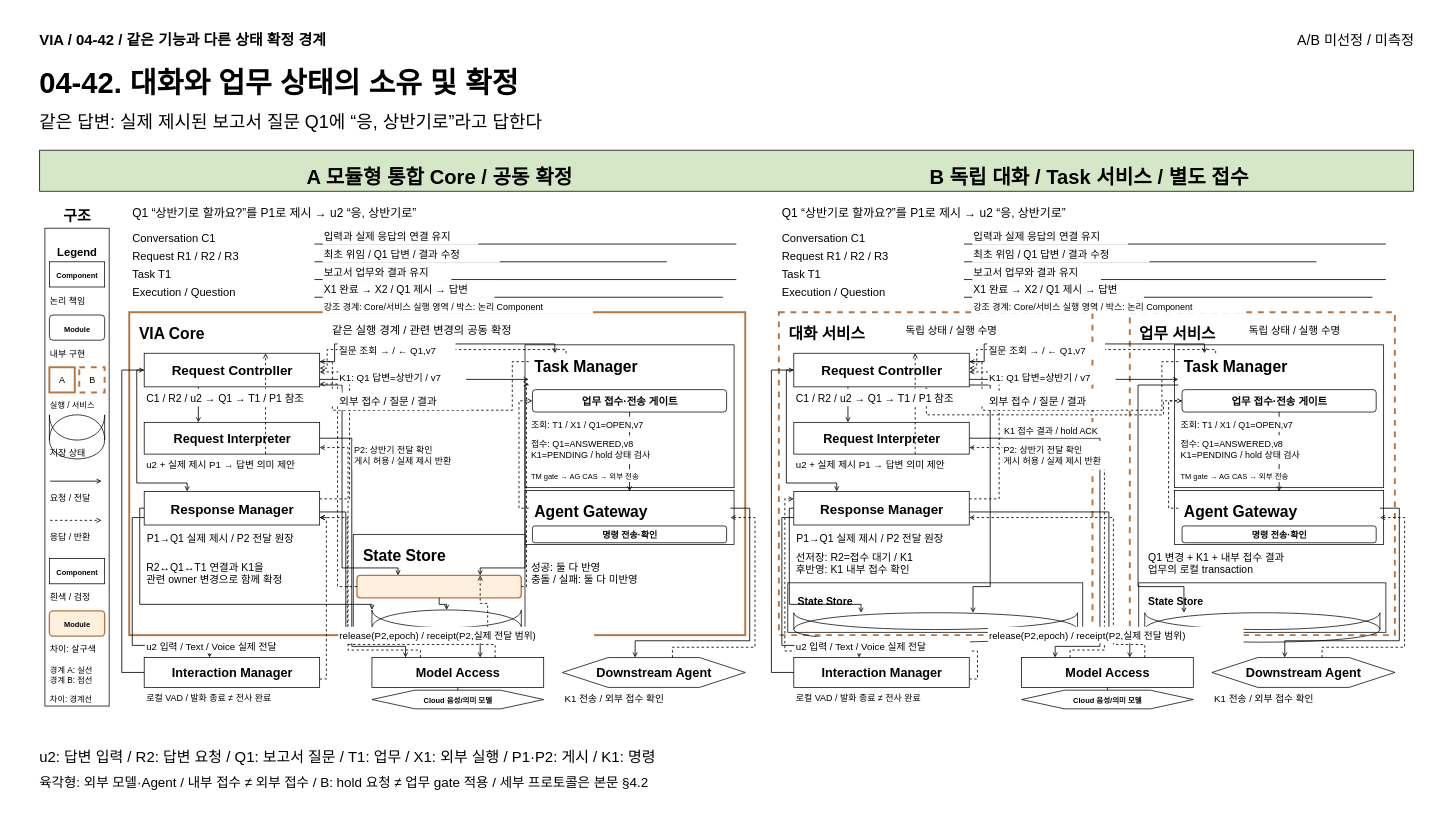
Some shapes in this 1453 by 825 pixel diagram are drawn without their labels. Here are the shapes that lost their labels. From the top down, the centre of each, then its label:
[77,427]: State
[439,586]: 트랜잭션 관리자
[446,618]: 저장 commit 상태
[935,621]: 대화 저장 scope / 로컬 tx
[1262,621]: 업무 저장 scope / 로컬 tx
